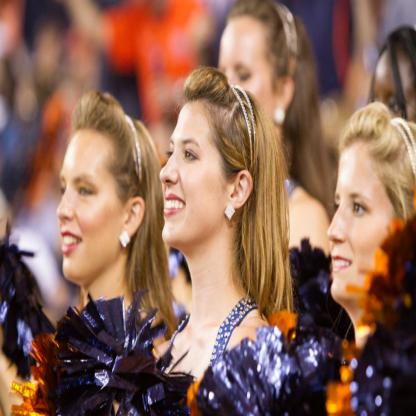face: (328, 146, 392, 299), (58, 128, 119, 281), (161, 101, 225, 244), (218, 18, 280, 150), (374, 46, 414, 189)
